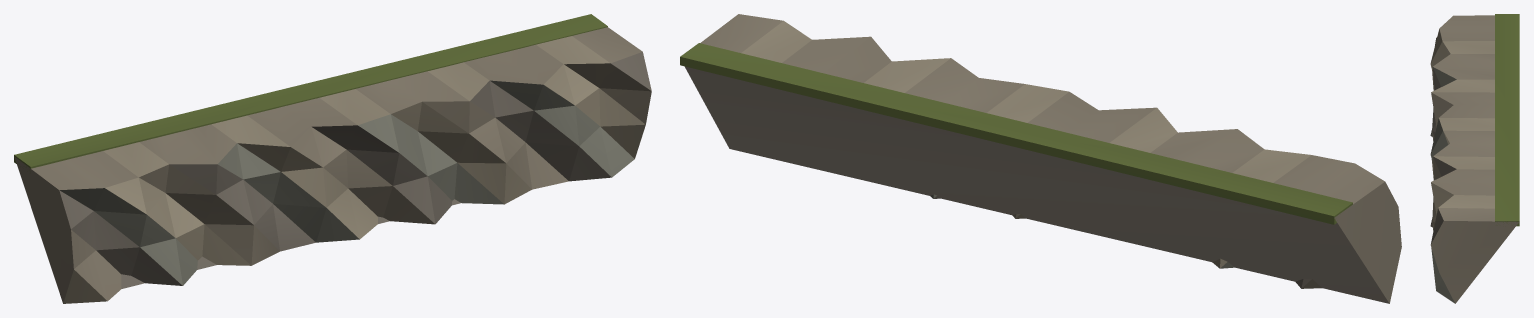
Rendered from coast_a.glb.
3 renders of one model, left to right at view 1: azimuth 30°, elevation 25°; view 2: azimuth 150°, elevation 25°; view 3: azimuth 270°, elevation 25°, orthographic. The views are drawn at different scales.
Visible parts, largest first — view 1: coast_a; view 2: coast_a; view 3: coast_a.
Part boxes in pixels (x1,y1,x2,y2): coast_a: (14,14,651,303); coast_a: (680,14,1401,303); coast_a: (1430,14,1519,303).
Size of the model in its own units: 1.28 by 0.24 by 0.233.
